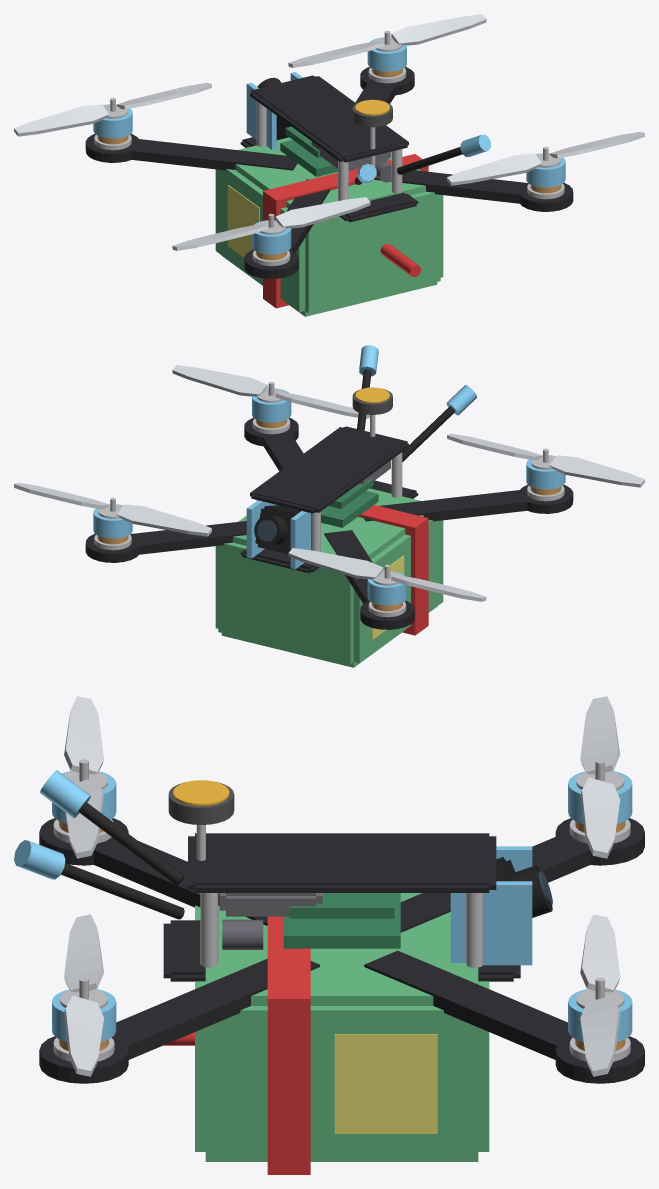
Rendered from longrange4.glb.
The picture shows the model from 3 angles, top to bottom: view 1: azimuth 30°, elevation 25°; view 2: azimuth 150°, elevation 25°; view 3: azimuth 270°, elevation 25°; orthographic projection. The views are drawn at different scales.
Visible parts, largest first — view 1: body, prop_FR, prop_RL, prop_FL, prop_RR, cam_mount; view 2: body, prop_RL, prop_FL, prop_FR, prop_RR, cam_mount, fpv_cam; view 3: body, cam_mount, prop_FR, prop_FL, prop_RR, prop_RL, fpv_cam.
Part boxes in pixels (x1=…): body: x1=85, y1=31, x2=573, y2=316; prop_FR: x1=288, y1=14, x2=486, y2=67; prop_RL: x1=172, y1=197, x2=370, y2=250; prop_FL: x1=14, y1=82, x2=211, y2=136; prop_RR: x1=447, y1=131, x2=644, y2=185; cam_mount: x1=246, y1=72, x2=302, y2=149; body: x1=85, y1=345, x2=573, y2=667; prop_RL: x1=447, y1=433, x2=644, y2=487; prop_FL: x1=288, y1=548, x2=486, y2=601; prop_FR: x1=14, y1=482, x2=211, y2=536; prop_RR: x1=172, y1=365, x2=369, y2=418; cam_mount: x1=246, y1=500, x2=310, y2=569; fpv_cam: x1=254, y1=505, x2=300, y2=554; body: x1=14, y1=759, x2=644, y2=1174; cam_mount: x1=450, y1=846, x2=532, y2=965; prop_FR: x1=580, y1=914, x2=620, y2=1076; prop_FL: x1=580, y1=696, x2=620, y2=858; prop_RR: x1=64, y1=914, x2=103, y2=1076; prop_RL: x1=64, y1=696, x2=103, y2=858; fpv_cam: x1=496, y1=857, x2=552, y2=917.
Size of the model in its own units: 0.2456 by 0.0992 by 0.176.
